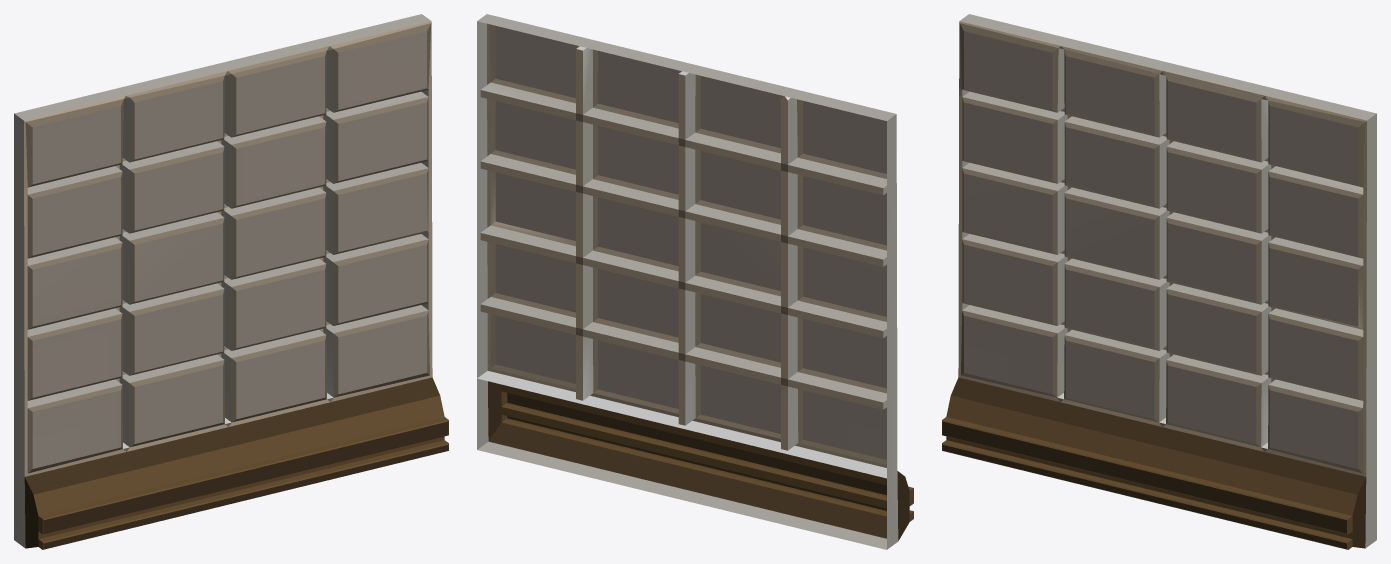
File: parede_lab_LoPo.fbx
The picture shows the model from 3 angles, left to right: view 1: azimuth 30°, elevation 25°; view 2: azimuth 150°, elevation 25°; view 3: azimuth 330°, elevation 25°; orthographic projection.
Parts seen in each view (by area): view 1: parede_lab_LoPo; view 2: parede_lab_LoPo; view 3: parede_lab_LoPo.
Part boxes in pixels (x1,y1,x2,y2): parede_lab_LoPo: (14,14,448,549); parede_lab_LoPo: (477,14,913,549); parede_lab_LoPo: (942,14,1376,549).
Bounding box in the file's own units: 200 × 200 × 24.
